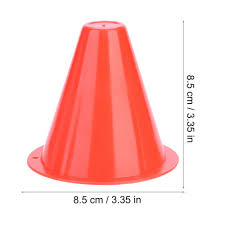cones: (29, 20, 181, 185)
